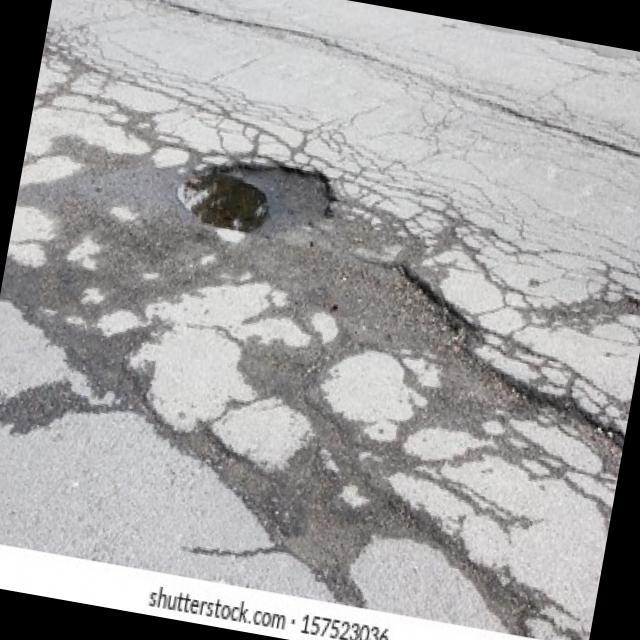Pothole: (308, 244, 482, 370), (167, 142, 338, 256)
